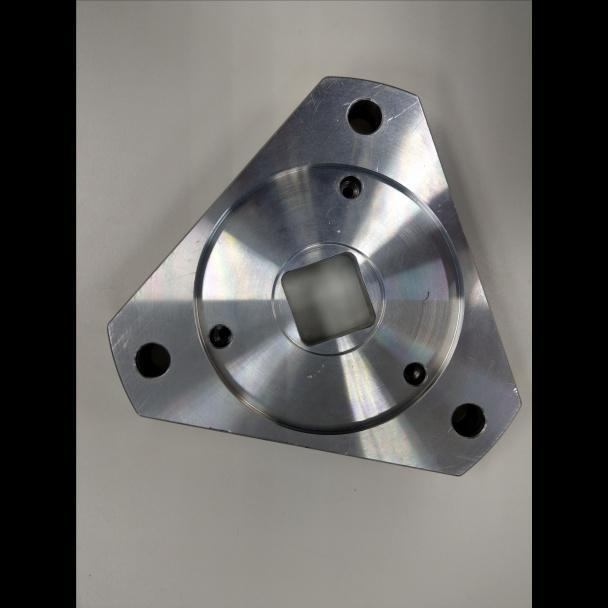hole: (131, 340, 173, 380), (343, 96, 385, 136), (449, 400, 488, 440), (336, 173, 364, 200), (206, 322, 233, 349), (401, 360, 428, 387)
